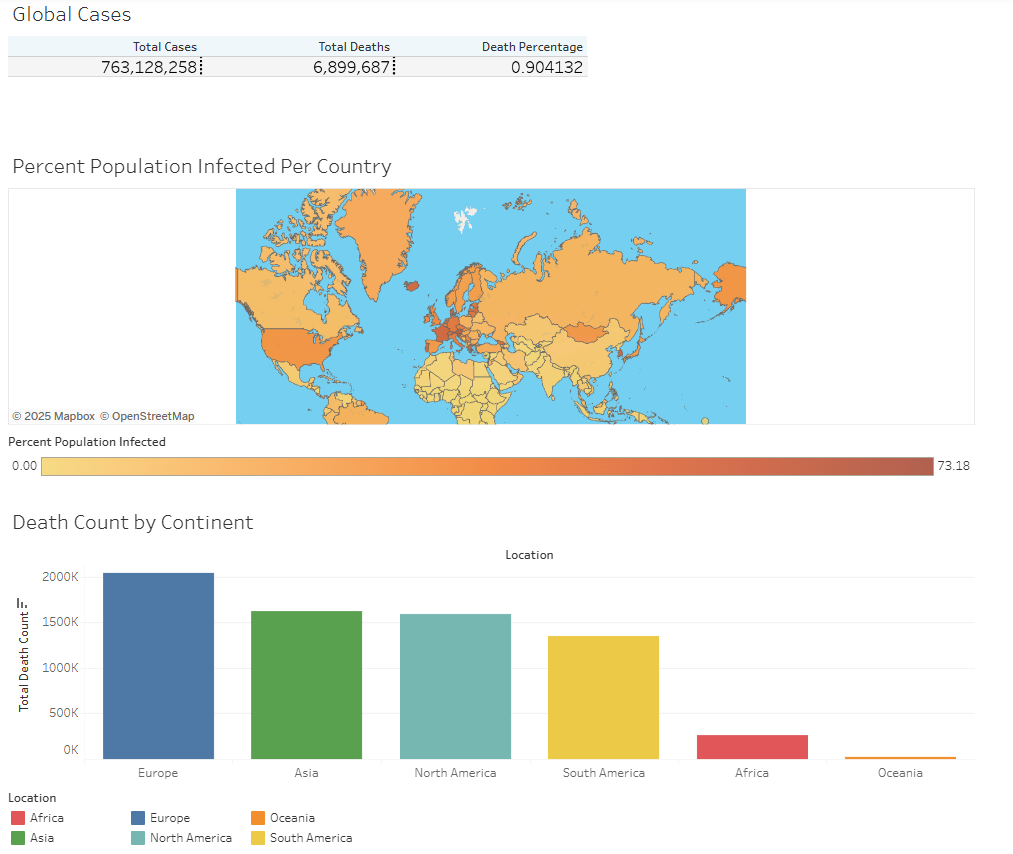

The page's visual inventory and layout, read from the dashboard file:
{"tool":"tableau","page":{"name":"Dashboard 1","canvas":[1000,1000],"units":"permille","ordinal":0},"visuals":[{"type":"worksheet","title":"Sheet 1","mark":"Automatic","box":[6,11.8,412.1,190]},{"type":"worksheet","title":"Sheet 4","mark":"Automatic","box":[418.1,11.8,455.1,488.2]},{"type":"legend","title":"Sheet 3","param":"[federated.0k2ls2c0d5nlpd1d5tco815tqcz8].[none:Location:nk]","box":[873.2,11.8,120.8,215]},{"type":"worksheet","title":"Sheet 3","mark":"Automatic","rows":["TotalDeathCount"],"cols":["Location"],"box":[6,201.8,412.1,786.5]},{"type":"legend","title":"Sheet 4","param":"[federated.0q85vls10vovor1a37u8d1f48xv9].[sum:PercentPopulationInfected:qk]","box":[873.2,226.8,120.8,95.7]},{"type":"legend","title":"Sheet 5","param":"[federated.17g5vme1d5njxj1c1fmyb1h5a3hn].[none:Location:nk]\n[federated.17g5vme1d","box":[873.2,322.5,120.8,391.8]},{"type":"worksheet","title":"Sheet 5","mark":"Automatic","rows":["PercentPopulationInfected"],"cols":["date"],"box":[418.1,500,455.1,488.2]}]}

Visuals, with their boxes on the dashboard's canvas, which has no fixed pixel size, in thousandths of its width and height (x1, y1, x2, y2). These are canvas units, not pixel positions in the 1013x854 screenshot, which may show the page scaled, cropped or inside an application window:
"Sheet 1" worksheet: [6,12,418,202]
"Sheet 4" worksheet: [418,12,873,500]
"Sheet 3" legend: [873,12,994,227]
"Sheet 3" worksheet: [6,202,418,988]
"Sheet 4" legend: [873,227,994,322]
"Sheet 5" legend: [873,322,994,714]
"Sheet 5" worksheet: [418,500,873,988]
